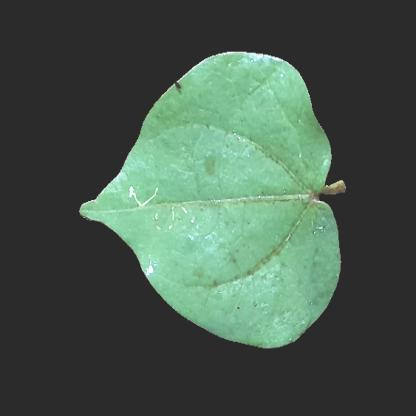healthy: (156, 102, 302, 272), (218, 272, 296, 339), (296, 217, 340, 307), (104, 176, 152, 230)
